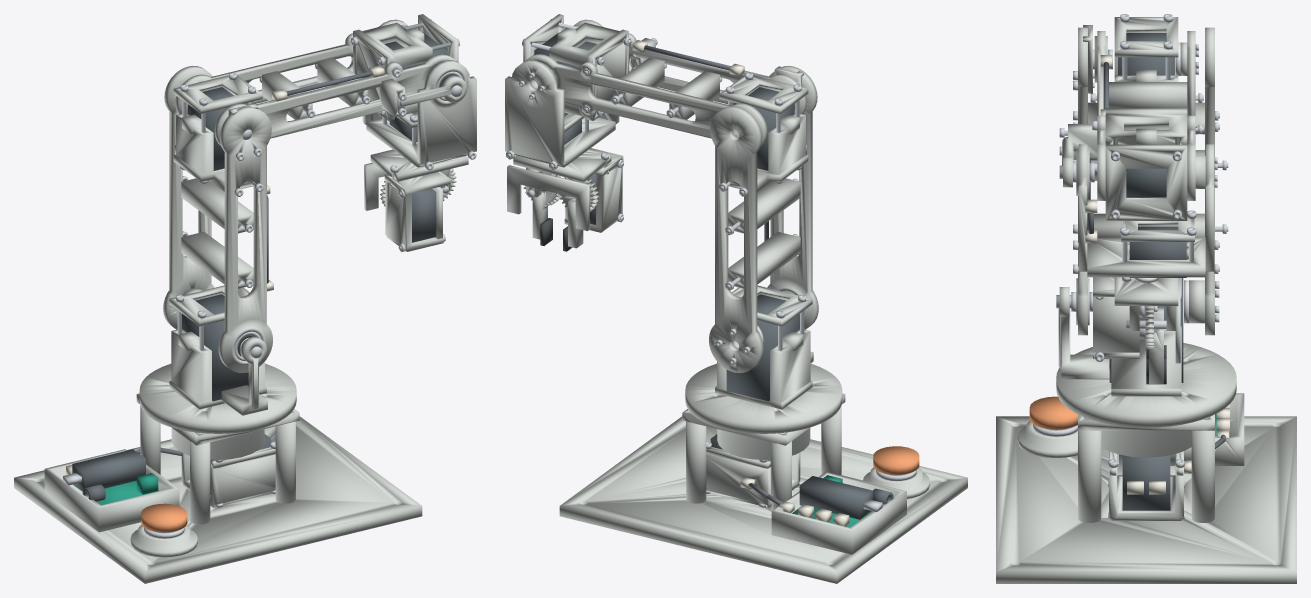
File: assembly.glb
3 renders of one model, left to right at view 1: azimuth 30°, elevation 25°; view 2: azimuth 150°, elevation 25°; view 3: azimuth 270°, elevation 25°, orthographic. The views are drawn at different scales.
Visible parts, largest first — view 1: base-plate, upper-link-left, yaw-turntable, forearm-link-left, wrist-yoke-left, upper-link-right, electronics-tray, wrist-cradle, shoulder-cradle, yaw-motor-saddle, gripper-motor-cradle, elbow-cradle (+24 smaller); view 2: base-plate, upper-link-right, yaw-turntable, forearm-link-right, wrist-yoke-right, electronics-tray, upper-link-left, wrist-cradle, shoulder-cradle, yaw-motor-saddle, elbow-cradle, shoulder-motor (+22 smaller); view 3: base-plate, yaw-turntable, wrist-keeper, roll-motor-bridge, yaw-bearing-carrier, wrist-cradle, shoulder-cradle, yaw-motor, base-column-3, base-column-4, elbow-keeper, forearm-cross-tie-1 (+26 smaller).
Boxes of the visible parts, x1=… form: base-plate: x1=14, y1=416, x2=422, y2=583; upper-link-left: x1=218, y1=106, x2=272, y2=372; yaw-turntable: x1=139, y1=363, x2=296, y2=433; forearm-link-left: x1=214, y1=54, x2=456, y2=145; wrist-yoke-left: x1=417, y1=60, x2=476, y2=164; upper-link-right: x1=163, y1=66, x2=214, y2=329; electronics-tray: x1=44, y1=449, x2=179, y2=532; wrist-cradle: x1=353, y1=22, x2=432, y2=120; shoulder-cradle: x1=169, y1=329, x2=266, y2=409; yaw-motor-saddle: x1=181, y1=452, x2=275, y2=507; gripper-motor-cradle: x1=384, y1=171, x2=450, y2=251; elbow-cradle: x1=173, y1=104, x2=253, y2=191; base-plate: x1=559, y1=416, x2=967, y2=583; upper-link-right: x1=709, y1=106, x2=763, y2=372; yaw-turntable: x1=685, y1=363, x2=842, y2=433; forearm-link-right: x1=525, y1=54, x2=767, y2=145; wrist-yoke-right: x1=505, y1=60, x2=564, y2=164; electronics-tray: x1=771, y1=471, x2=906, y2=554; upper-link-left: x1=767, y1=66, x2=818, y2=329; wrist-cradle: x1=549, y1=22, x2=628, y2=120; shoulder-cradle: x1=715, y1=329, x2=812, y2=409; yaw-motor-saddle: x1=706, y1=452, x2=800, y2=507; elbow-cradle: x1=728, y1=104, x2=808, y2=191; shoulder-motor: x1=726, y1=294, x2=799, y2=401; base-plate: x1=996, y1=416, x2=1296, y2=583; yaw-turntable: x1=1056, y1=343, x2=1236, y2=427; wrist-keeper: x1=1105, y1=144, x2=1187, y2=220; roll-motor-bridge: x1=1087, y1=237, x2=1205, y2=277; yaw-bearing-carrier: x1=1078, y1=414, x2=1214, y2=457; wrist-cradle: x1=1105, y1=108, x2=1187, y2=144; shoulder-cradle: x1=1111, y1=320, x2=1181, y2=396; yaw-motor: x1=1122, y1=455, x2=1170, y2=510; base-column-3: x1=1078, y1=430, x2=1101, y2=522; base-column-4: x1=1191, y1=430, x2=1214, y2=522; elbow-keeper: x1=1114, y1=17, x2=1178, y2=57; forearm-cross-tie-1: x1=1109, y1=82, x2=1187, y2=108.
Size of the model in its own units: 0.302 by 0.3203 by 0.18.
